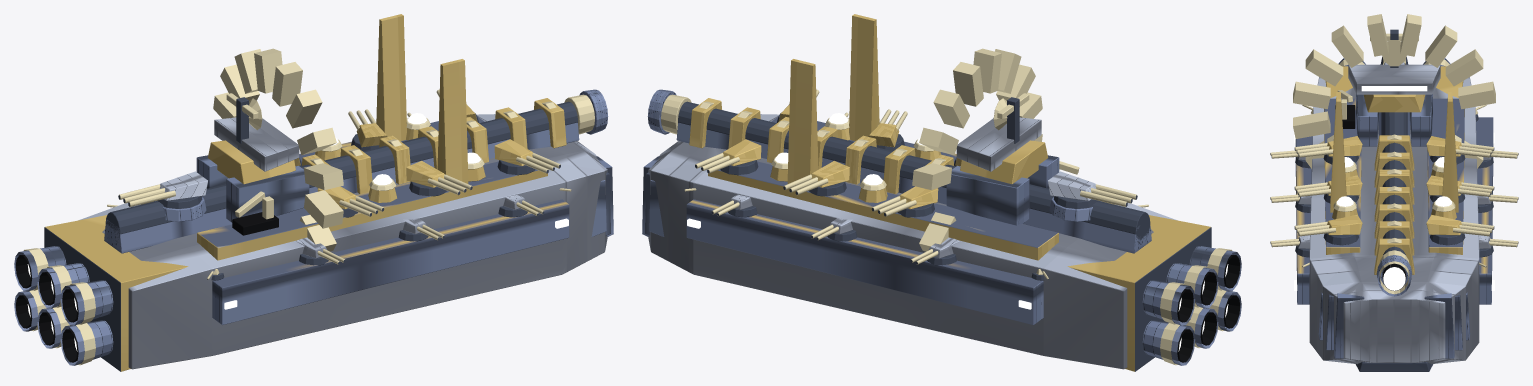
Rendered from battleship.glb.
The picture shows the model from 3 angles, left to right: view 1: azimuth 30°, elevation 25°; view 2: azimuth 150°, elevation 25°; view 3: azimuth 270°, elevation 25°; orthographic projection. The views are drawn at different scales.
Parts seen in each view (by area): view 1: faction-covenant_battleship; view 2: faction-covenant_battleship; view 3: faction-covenant_battleship.
Boxes of the visible parts, box(x1,y1,x2,y2) form: faction-covenant_battleship: box(14, 14, 613, 371); faction-covenant_battleship: box(642, 14, 1241, 371); faction-covenant_battleship: box(1270, 14, 1518, 371).
Size of the model in its own units: 60 by 25.37 by 25.57.
1 material, 1 textured.
